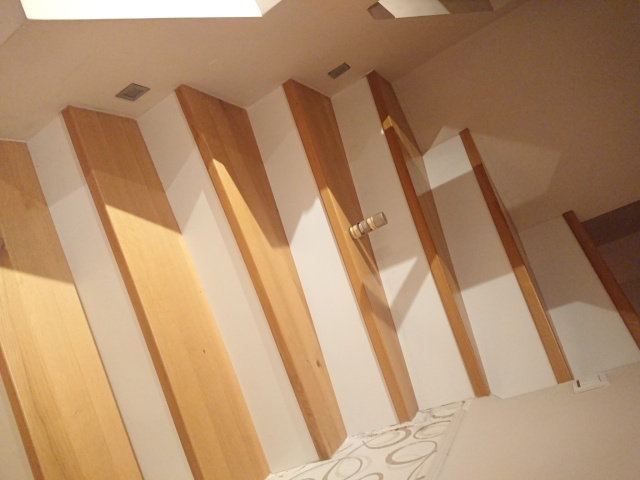Kotanyi Garlic Granules 70g: (347, 209, 388, 241)
